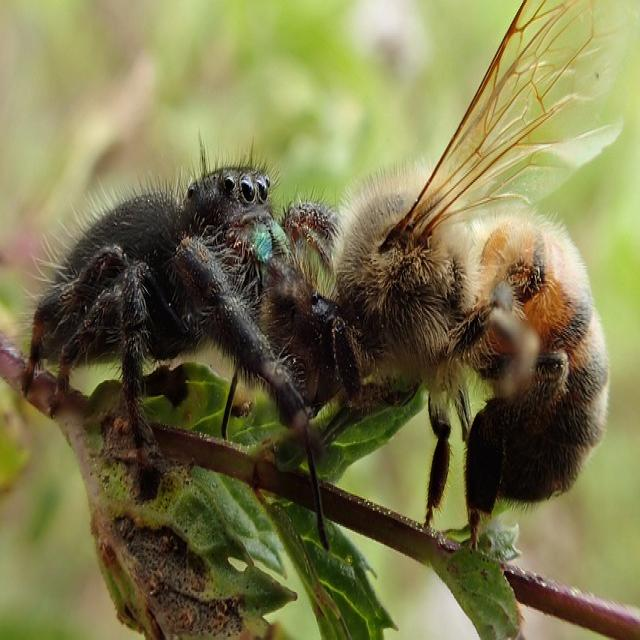spyder: (30, 168, 333, 475)
